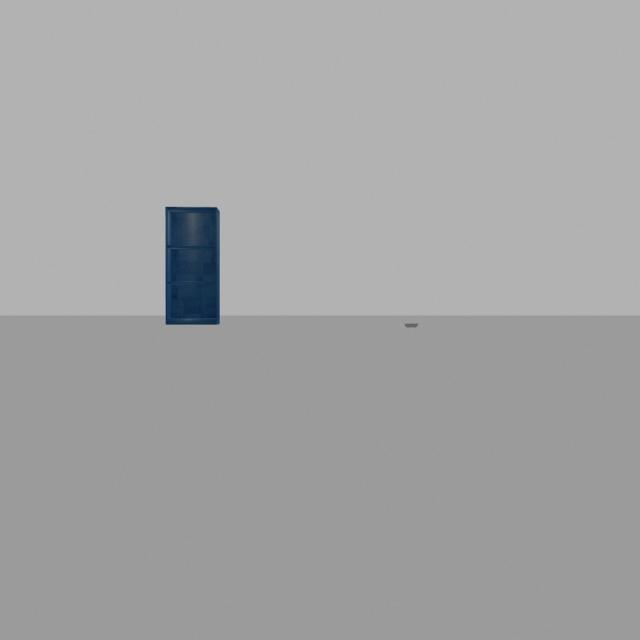bowl: (398, 314, 426, 333)
shelf: (157, 192, 230, 336)
